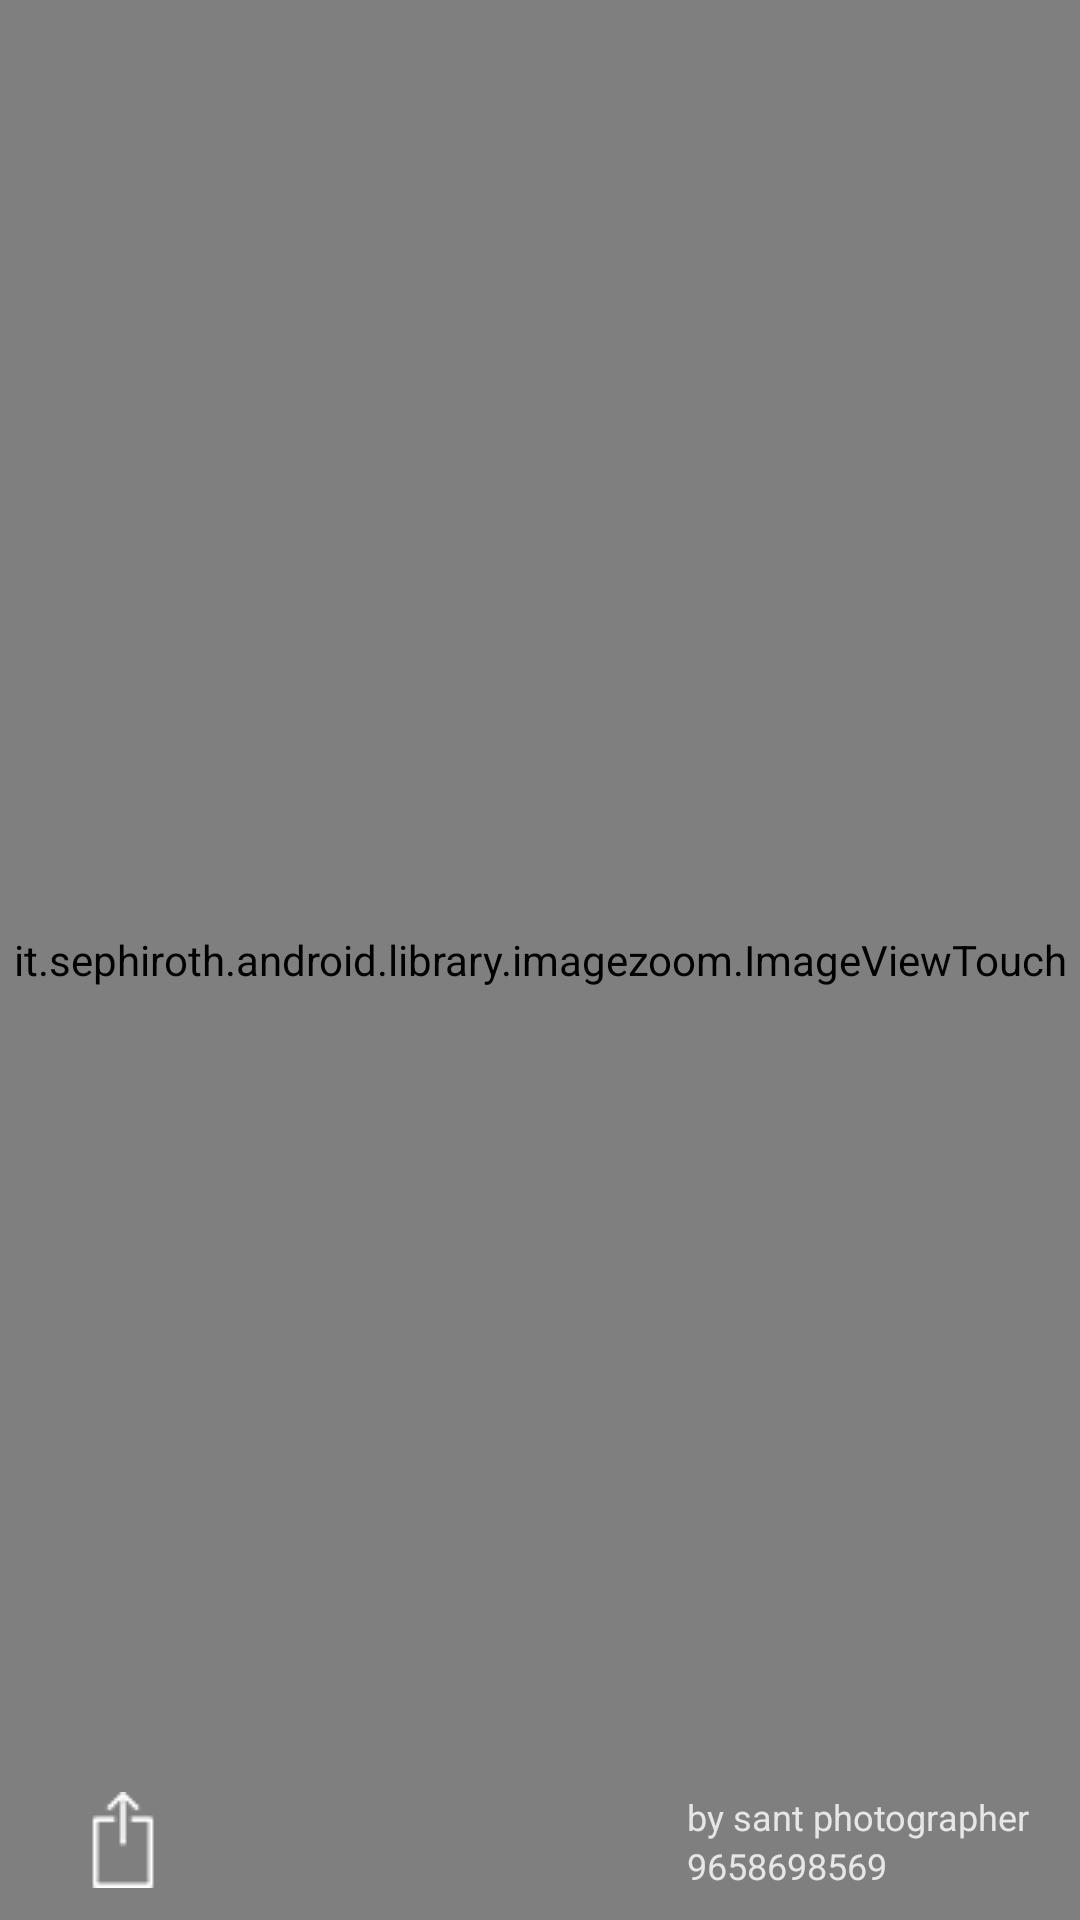

Where icons sit on this 1080x1920 app screen, as (x1, y1, x2, y2):
iconshair: (92, 1792, 154, 1888)
